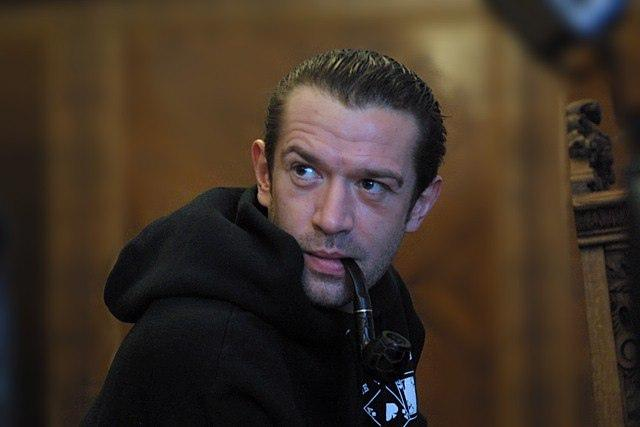trubka: (340, 255, 411, 384)
